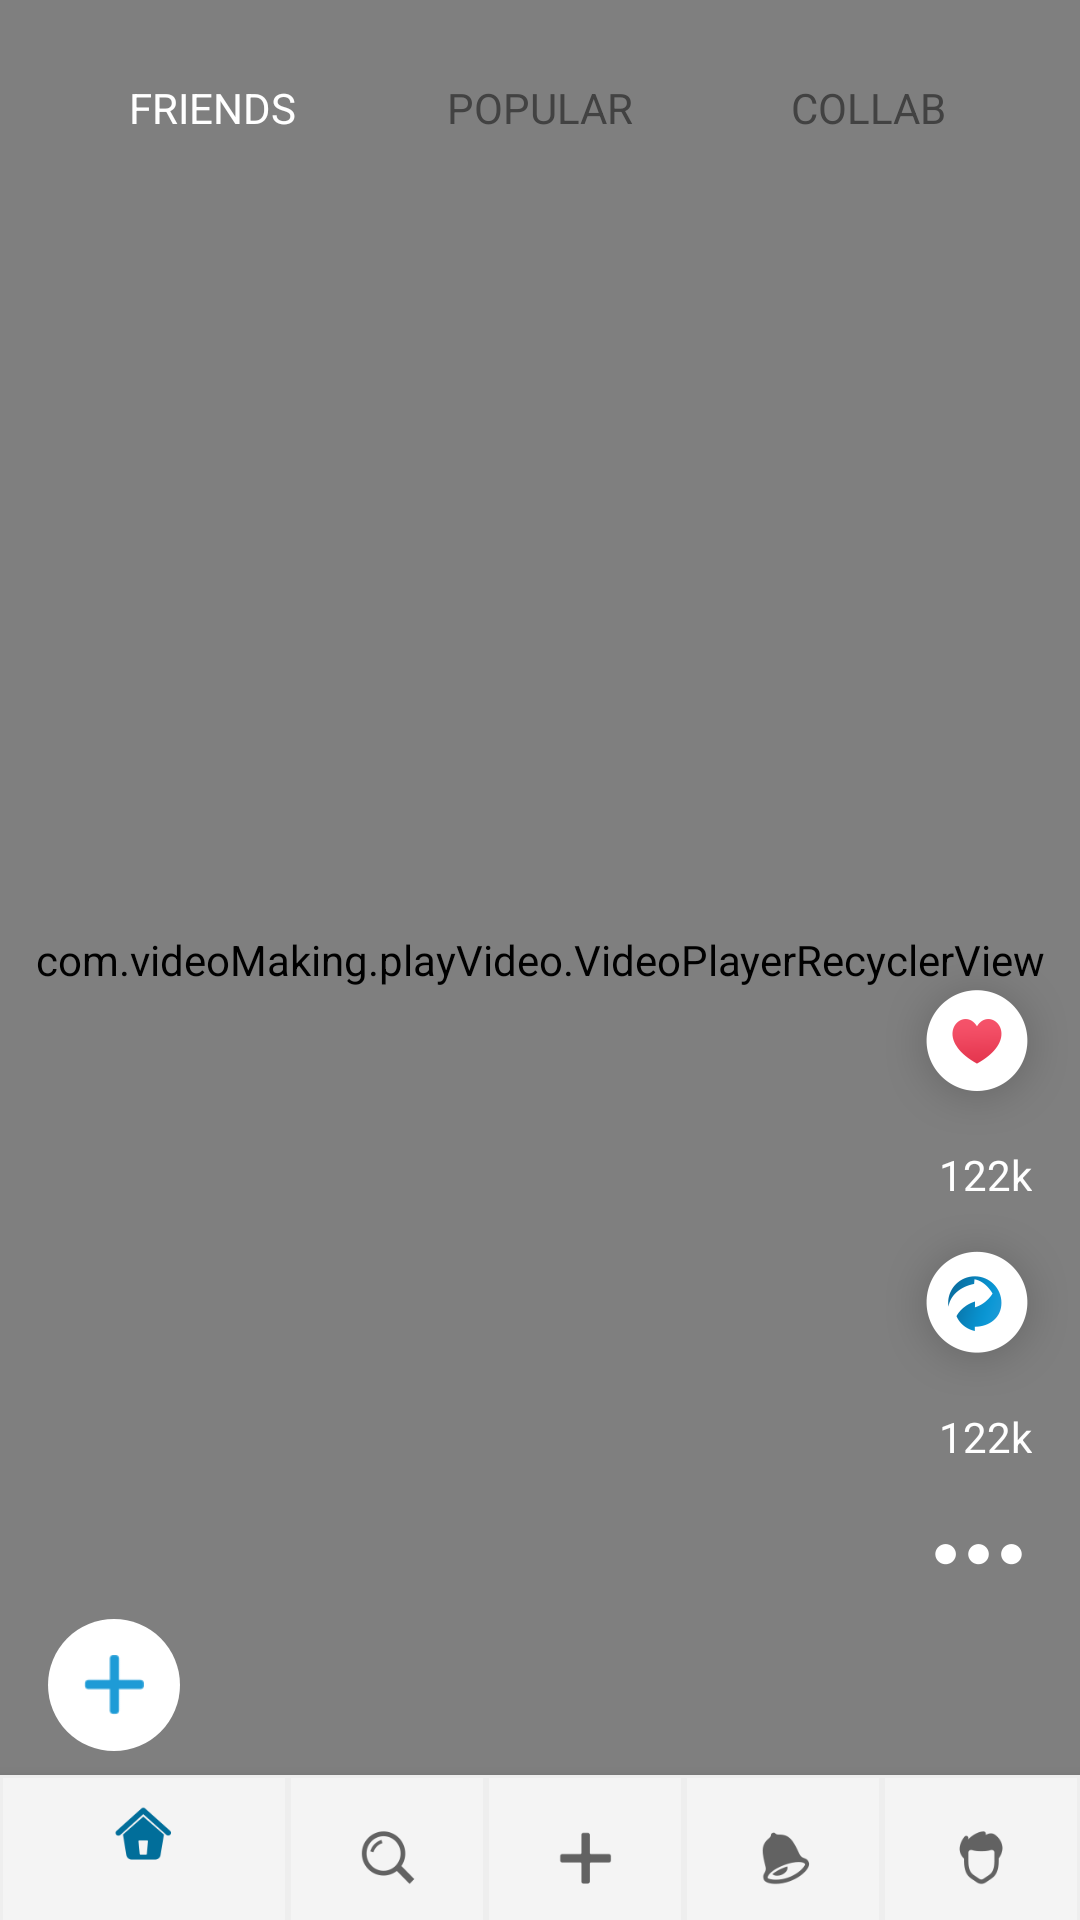

Screen size 1080x1920. Icon name, then its box in pixels as (x1, y1, x2, y2):
feed add comment: (48, 1619, 180, 1751)
feed options: (935, 1544, 1022, 1565)
feed reuse: (926, 1252, 1028, 1353)
